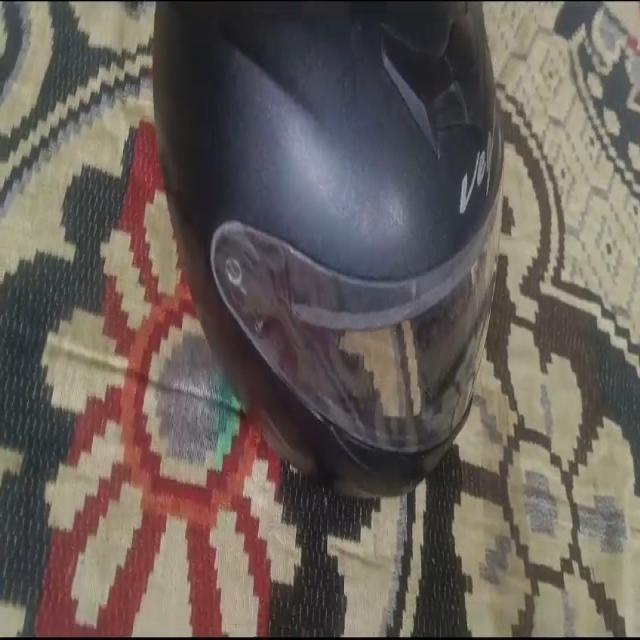Helmet: (151, 3, 507, 501)
